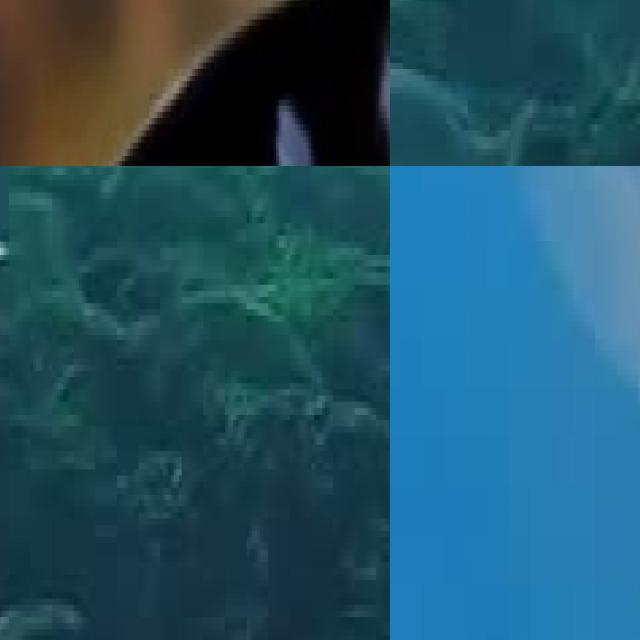fish: (0, 0, 390, 166), (390, 50, 570, 166)
